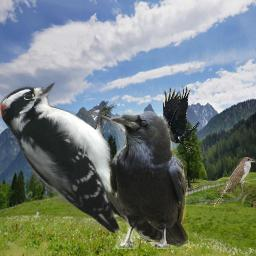Crow: (108, 111, 189, 249), (152, 85, 200, 154)
Cuckoo: (214, 157, 256, 207)
Woodpecker: (0, 82, 158, 242)
